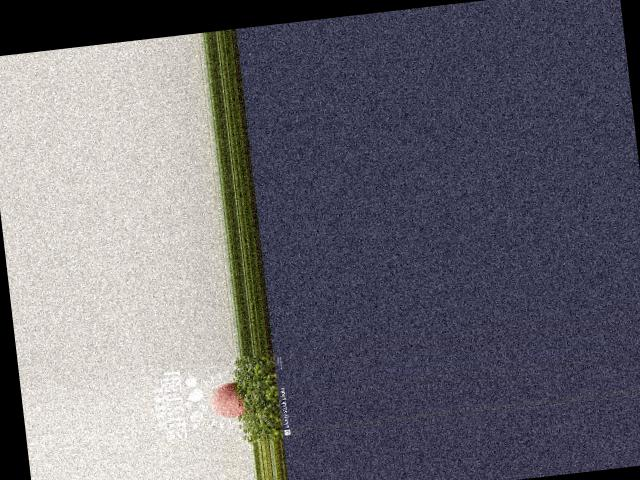egg: (208, 380, 246, 418)
